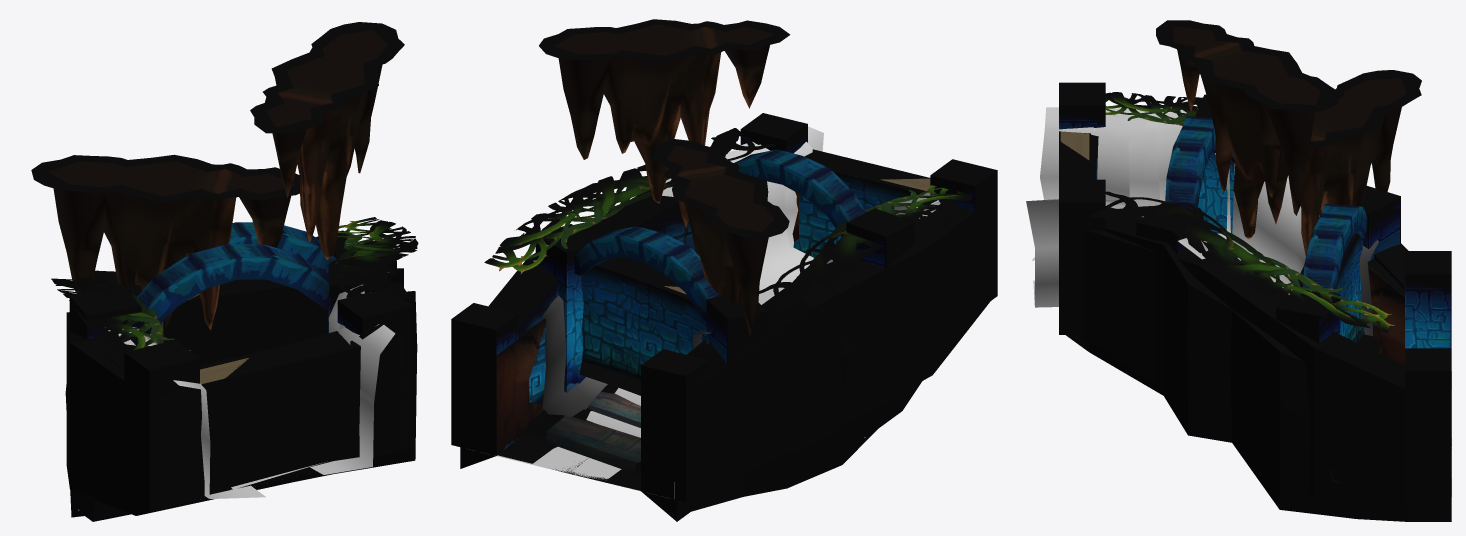
Rendered from Dungeon_051_GoalStepD_003.fbx.
3 views of the same model, side by side, from view 1: azimuth 30°, elevation 25°; view 2: azimuth 150°, elevation 25°; view 3: azimuth 270°, elevation 25° (orthographic). The views are drawn at different scales.
Visible parts, largest first — view 1: Dungeon_011_Iwa004_1, Dungeon_011_Iwa004_1 (1), Dun_011_Door_002_old, Dun_051_Door_002 (×2), Dun_051_StepD_001_Pillar, Dan1 (×3), Dun_011_Door_002, Dun_051_StepD_001_Wall, Dun_051_Door_002_Arch (1) (×2), Dungeon_021_Tsuta_002, Dungeon_021_Tsuta_001, Dun_011_Door_003_WarpRoom; view 2: Dun_051_StepD_001_Wall, Dun_051_StepD_001_Pillar, Dungeon_011_Iwa004_1 (1), Dun_051_Door_002 (×2), Dan1, Dungeon_011_Iwa004_1, Dungeon_021_Tsuta_002, Dun_051_Door_002_Arch (1) (×2), Dungeon_021_Tsuta_001, Dun_051_StepD_001_Step, Dan2, Dan1_shadow (+2 smaller); view 3: Dan1, Dun_051_StepD_001_Wall, Dun_051_StepD_001_Pillar, Dungeon_011_Iwa004_1 (1), Dungeon_021_Tsuta_001, Dungeon_011_Iwa004_1, Dungeon_021_Tsuta_002, Dun_051_Door_002_Arch (1) (×2), Dun_051_Door_002 (×2), Dun_011_Door_003_WarpRoom.
Boxes of the visible parts, <box> form: Dungeon_011_Iwa004_1: <box>31,154,299,339</box>; Dungeon_011_Iwa004_1 (1): <box>250,22,404,259</box>; Dun_011_Door_002_old: <box>200,331,360,498</box>; Dun_051_Door_002 (×2): <box>163,274,360,477</box>; Dun_051_StepD_001_Pillar: <box>69,230,413,512</box>; Dan1 (×3): <box>65,291,417,521</box>; Dun_011_Door_002: <box>200,347,360,499</box>; Dun_051_StepD_001_Wall: <box>66,268,403,507</box>; Dun_051_Door_002_Arch (1) (×2): <box>135,222,337,336</box>; Dungeon_021_Tsuta_002: <box>51,217,418,361</box>; Dungeon_021_Tsuta_001: <box>105,272,395,498</box>; Dun_011_Door_003_WarpRoom: <box>200,358,248,384</box>; Dun_051_StepD_001_Wall: <box>488,190,990,490</box>; Dun_051_StepD_001_Pillar: <box>451,113,997,502</box>; Dungeon_011_Iwa004_1 (1): <box>539,19,790,203</box>; Dun_051_Door_002 (×2): <box>581,149,930,380</box>; Dan1: <box>460,203,966,521</box>; Dungeon_011_Iwa004_1: <box>652,139,789,335</box>; Dungeon_021_Tsuta_002: <box>484,128,973,308</box>; Dun_051_Door_002_Arch (1) (×2): <box>574,149,866,322</box>; Dungeon_021_Tsuta_001: <box>542,126,940,416</box>; Dun_051_StepD_001_Step: <box>546,391,640,476</box>; Dan2: <box>497,290,865,498</box>; Dan1_shadow: <box>497,384,640,490</box>; Dan1: <box>1066,156,1451,521</box>; Dun_051_StepD_001_Wall: <box>1078,229,1408,502</box>; Dun_051_StepD_001_Pillar: <box>1059,82,1451,503</box>; Dungeon_011_Iwa004_1 (1): <box>1156,20,1339,239</box>; Dungeon_021_Tsuta_001: <box>1026,107,1378,336</box>; Dungeon_011_Iwa004_1: <box>1265,70,1421,255</box>; Dungeon_021_Tsuta_002: <box>1090,92,1394,333</box>; Dun_051_Door_002_Arch (1) (×2): <box>1165,116,1367,293</box>; Dun_051_Door_002 (×2): <box>1059,131,1364,342</box>; Dun_011_Door_003_WarpRoom: <box>1060,131,1089,159</box>.
Size of what is drawn, in the model's own units: 7.75 by 7.6 by 7.3.
